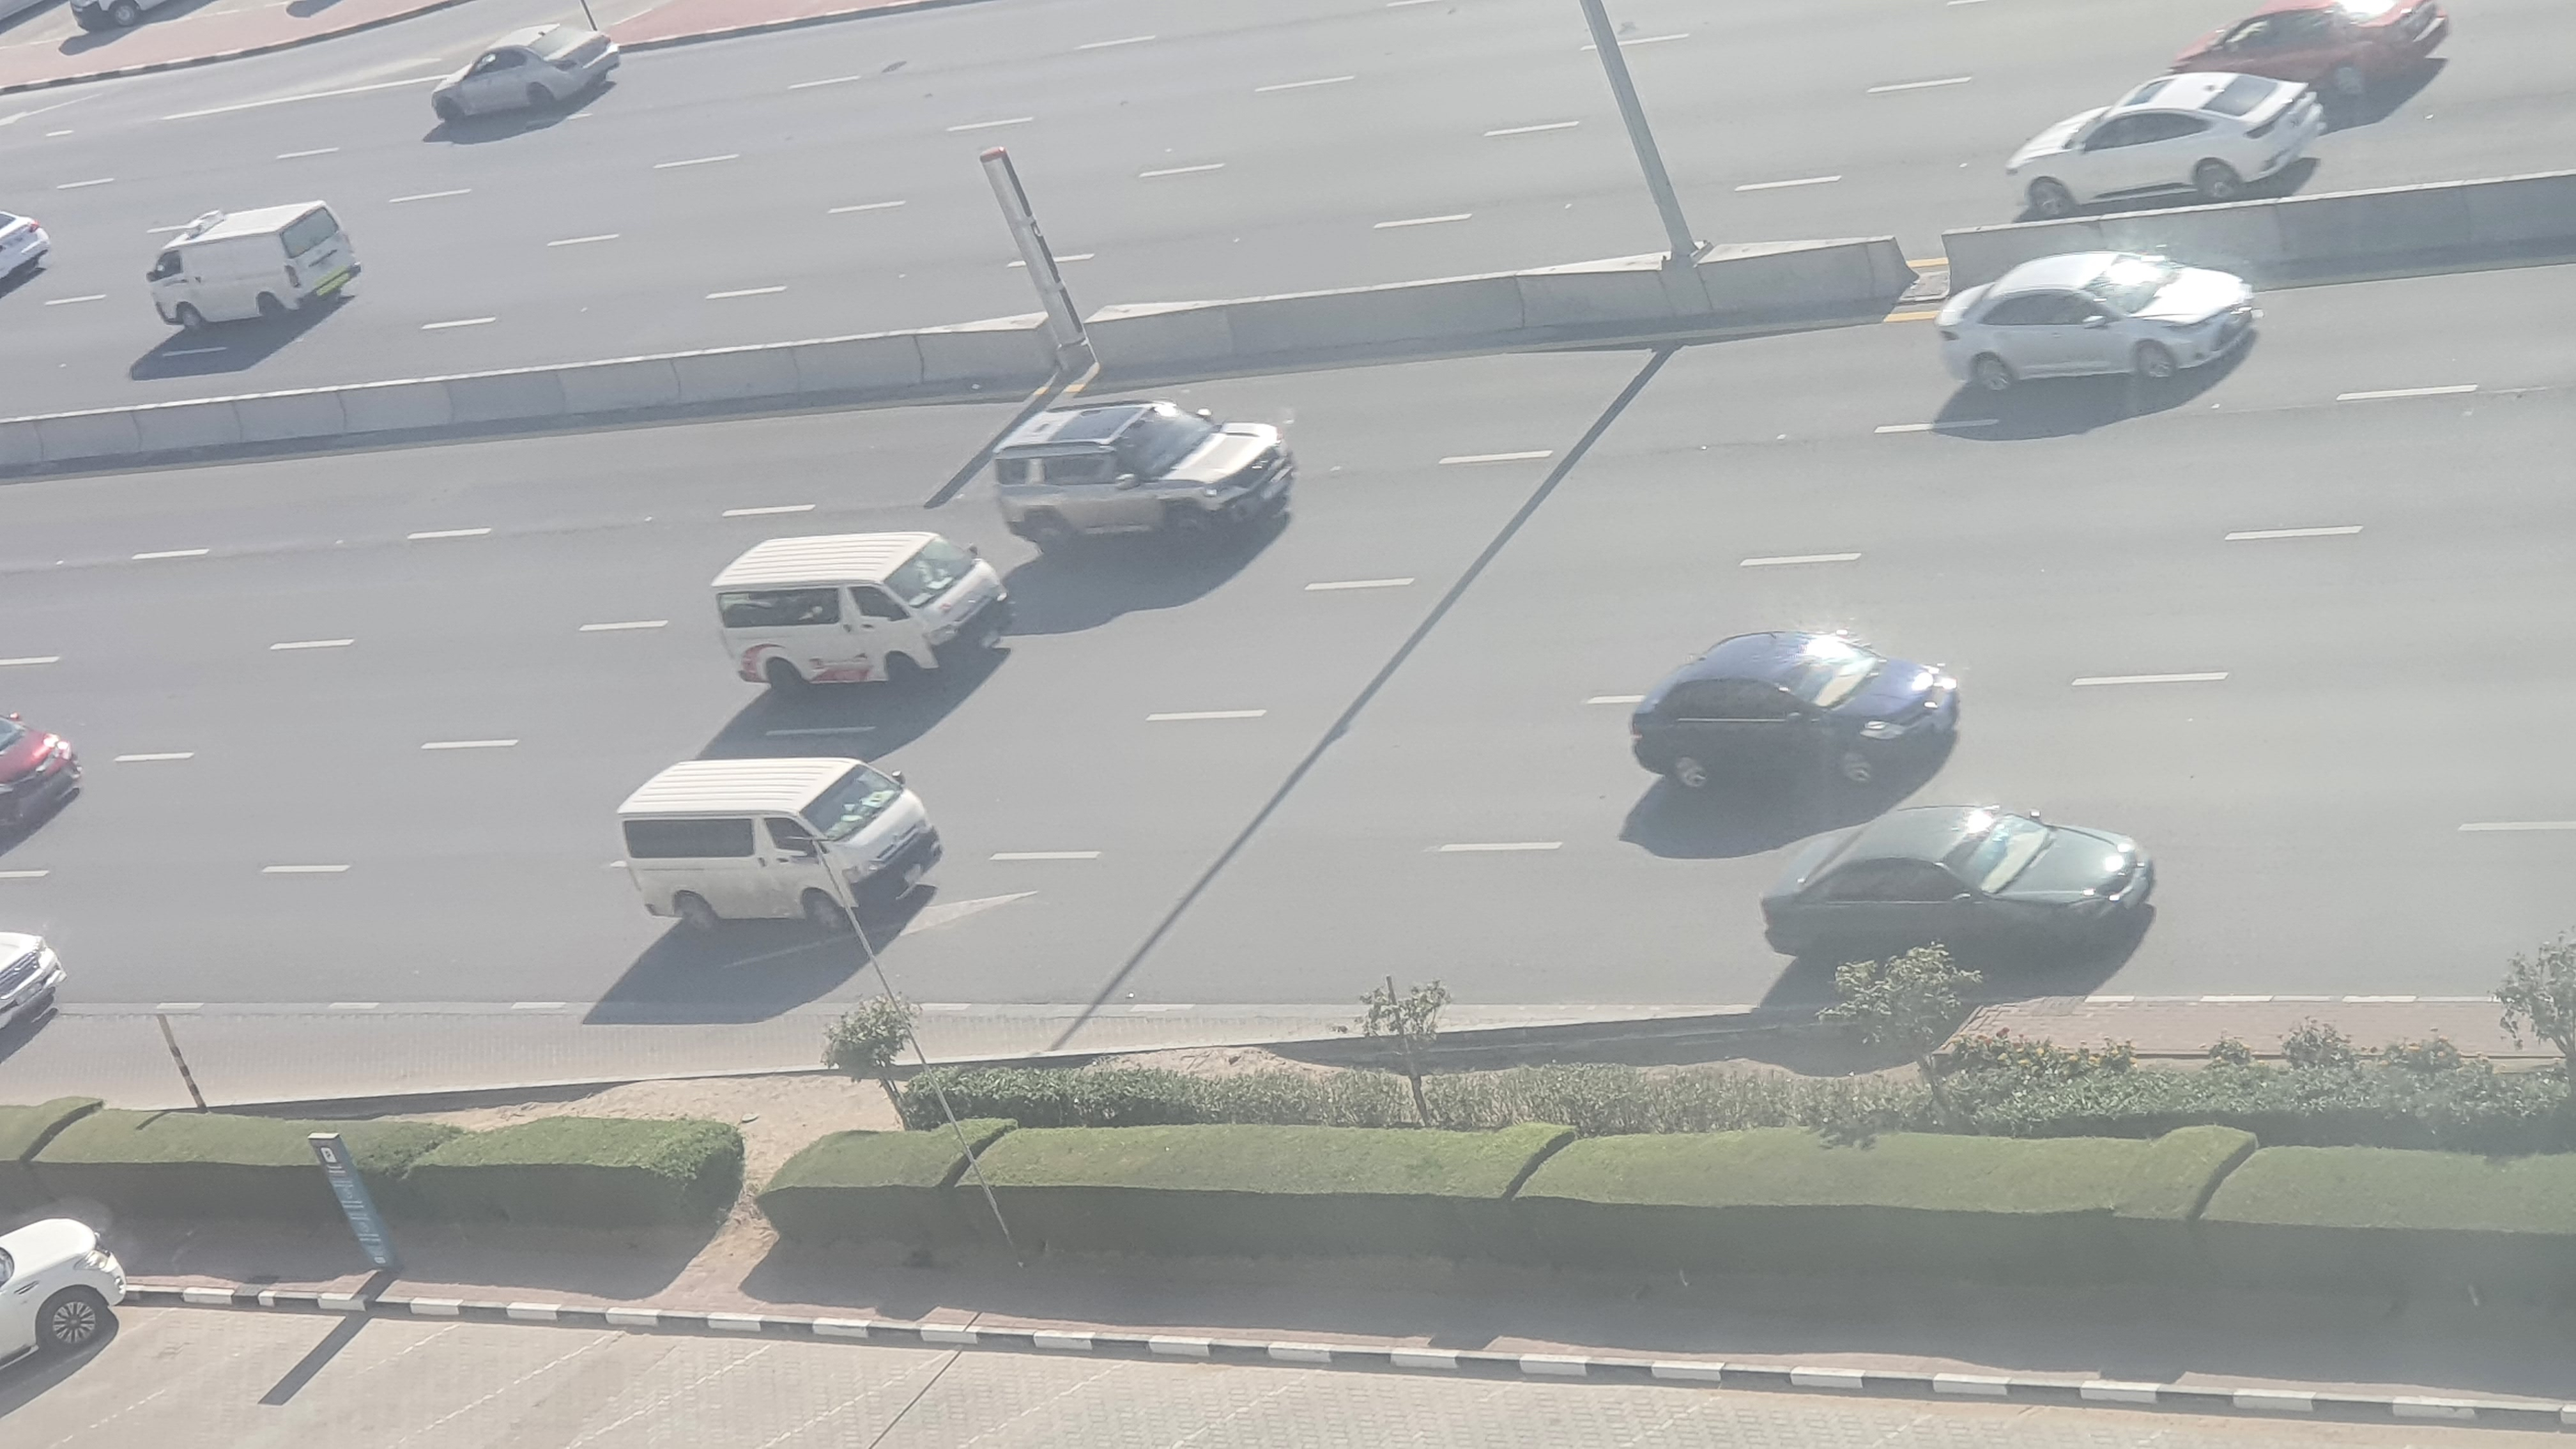NotSunroof: (1762, 800, 2157, 978), (1624, 625, 1971, 796), (1927, 244, 2256, 387)
Sunroof: (982, 402, 1295, 559)
